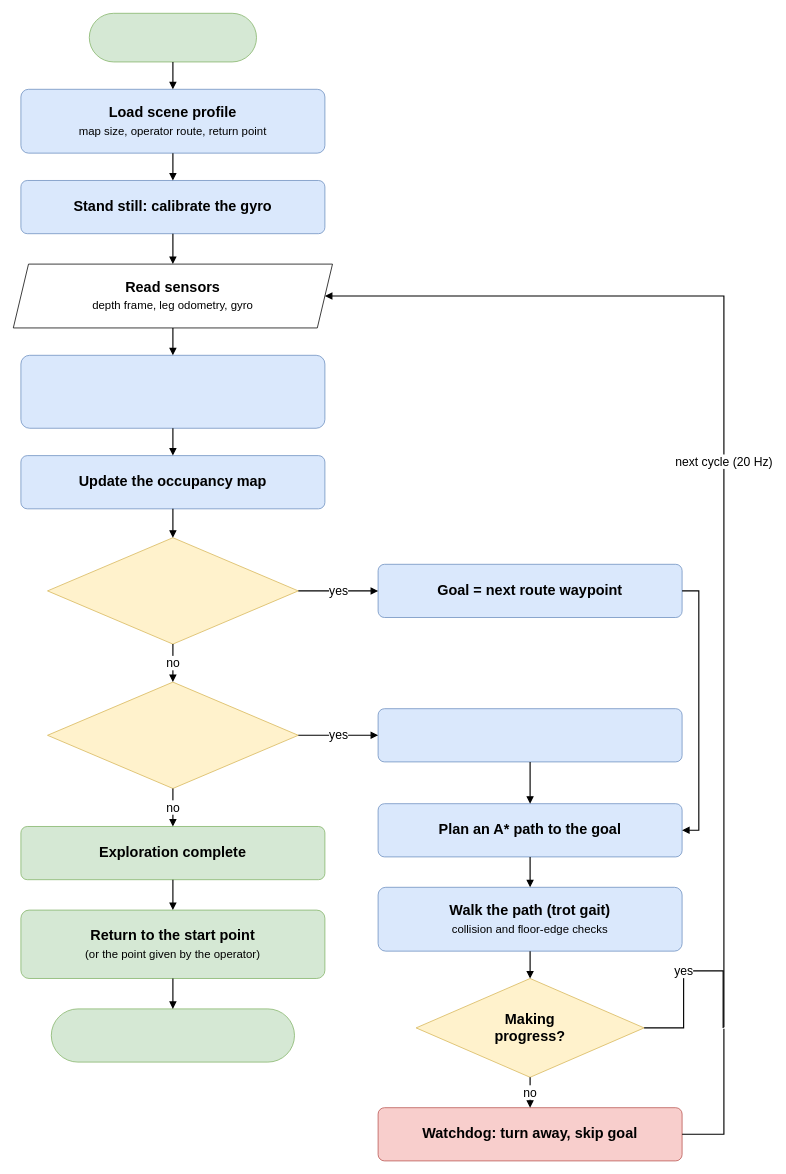
This 786x1174 diagram has some shape labels left out. Each missing label, with the box of its shape:
End: map and run report saved: (51, 1008, 294, 1062)
Goal = best frontier viewpoint: (377, 708, 682, 762)
Localise odometry prediction, scan-to-submap ICP, loop closure: (20, 355, 325, 428)
Route waypoint left?: (47, 537, 298, 644)
Start: (89, 13, 256, 62)
Unexplored frontier left?: (47, 681, 298, 788)
